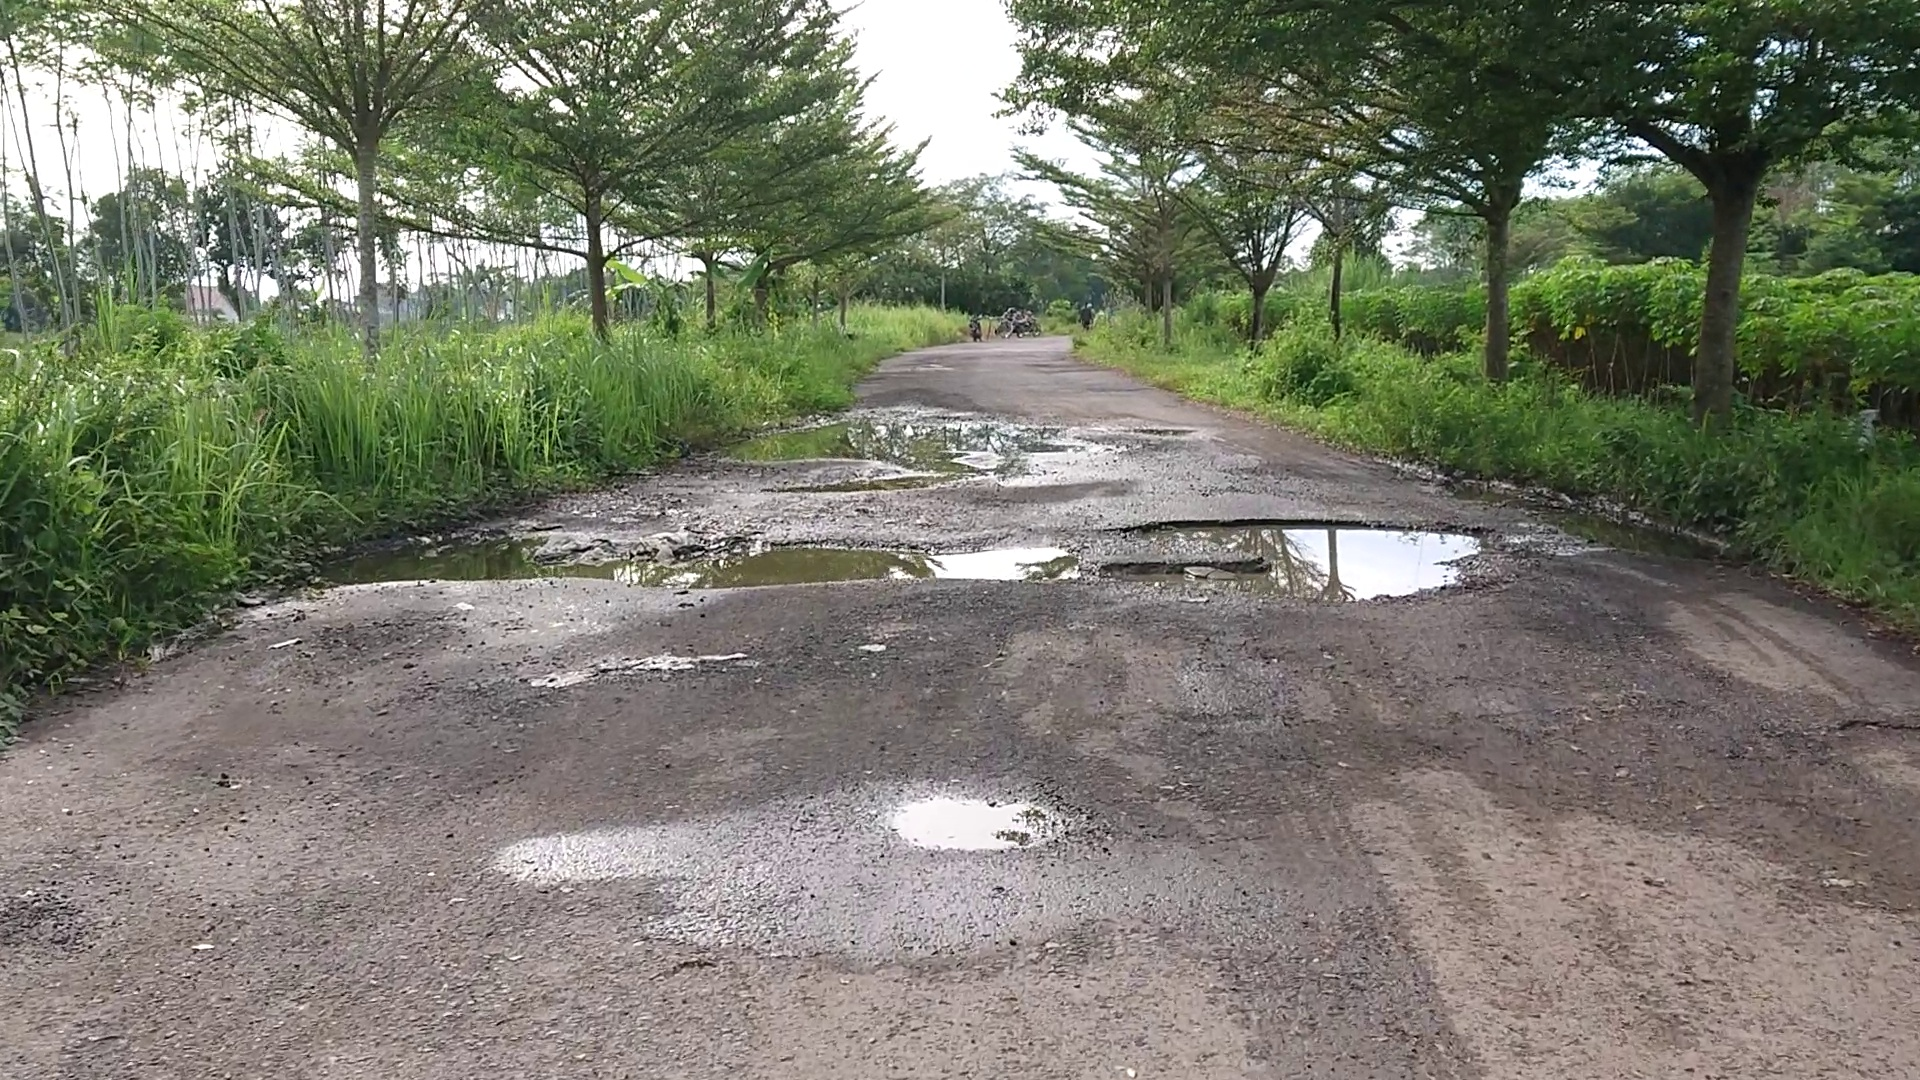Berlubang: (1121, 509, 1494, 607), (384, 531, 1087, 582), (736, 401, 1102, 495)
